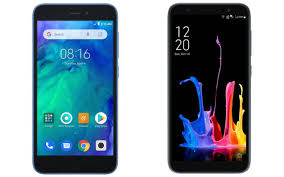asus: (29, 3, 122, 176), (164, 1, 255, 175)
